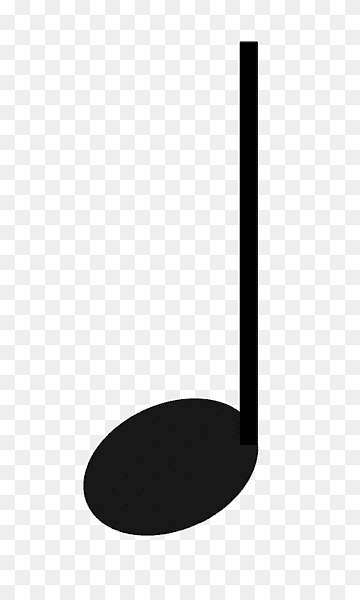four_score: (81, 39, 259, 537)
